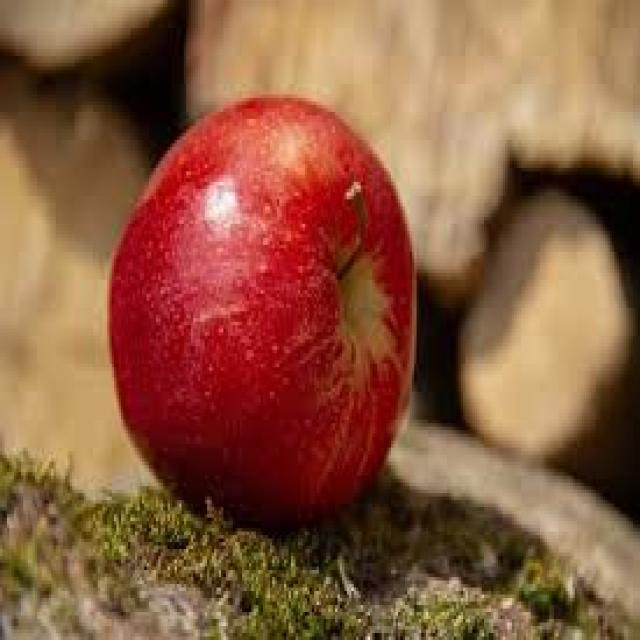apple: (103, 92, 426, 528)
